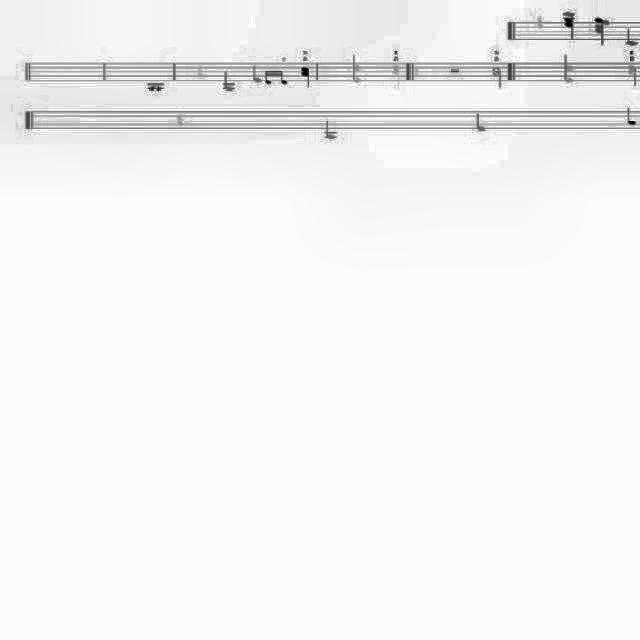Eighth-note: (618, 24, 640, 48)
Full-note: (141, 78, 167, 95)
Half-note: (552, 52, 578, 88), (347, 50, 365, 88), (390, 52, 404, 96), (624, 59, 640, 90), (488, 60, 500, 96)
Half-rest: (448, 65, 462, 79)
Quarter-note: (315, 108, 353, 142), (467, 107, 493, 145), (556, 8, 580, 46), (209, 64, 237, 96), (243, 59, 265, 89), (620, 102, 640, 134), (590, 14, 610, 46), (297, 56, 311, 96)
Quarter-rest: (194, 59, 206, 85), (536, 15, 546, 42), (175, 111, 185, 132)
Sixteenth-note: (274, 56, 288, 92), (264, 63, 276, 93)
